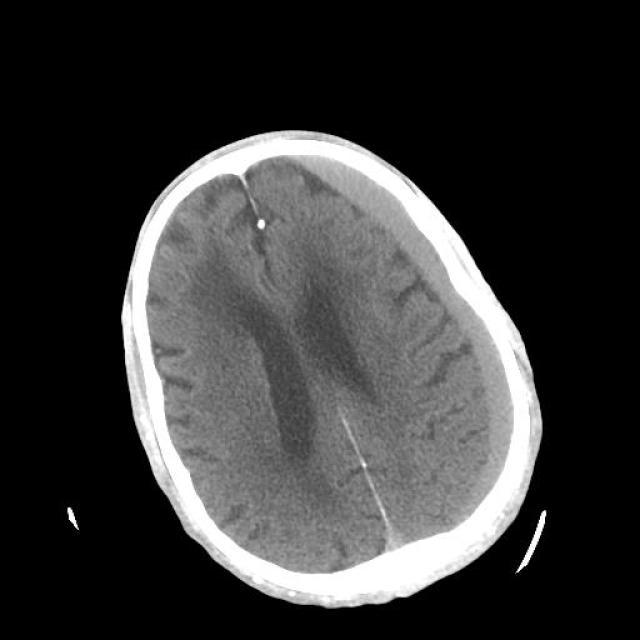Subdural: (286, 140, 562, 515)
